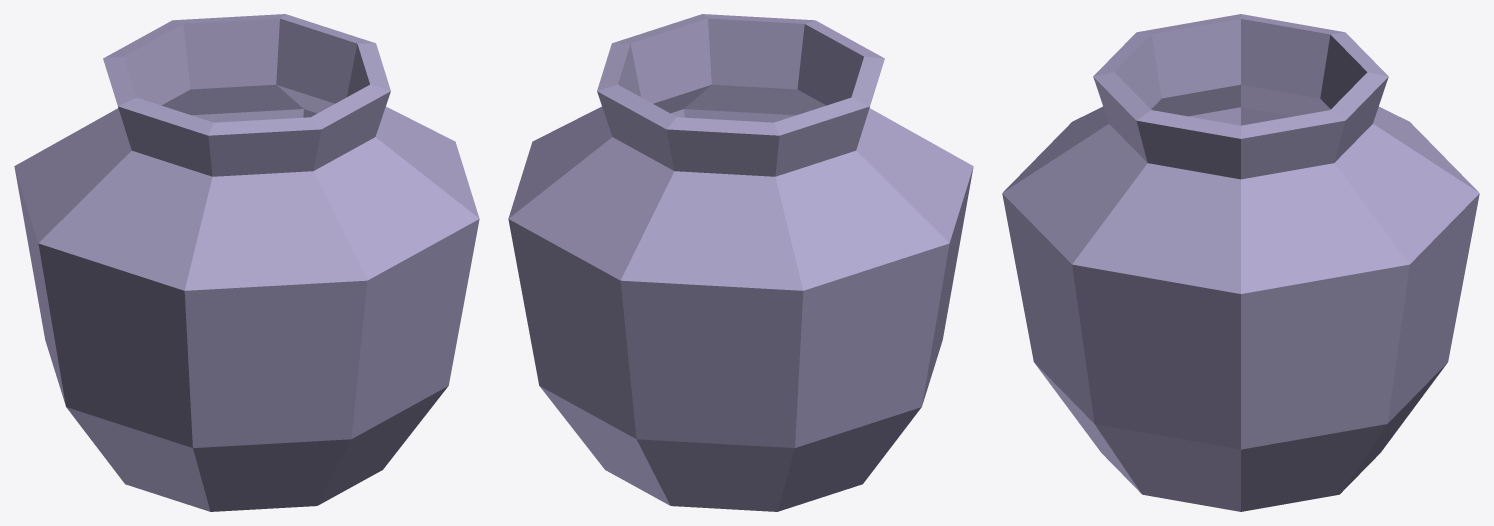
The model's file is pot_Decoration_02.fbx.
3 renders of one model, left to right at view 1: azimuth 30°, elevation 25°; view 2: azimuth 150°, elevation 25°; view 3: azimuth 270°, elevation 25°, orthographic.
Parts seen in each view (by area): view 1: Pot_02; view 2: Pot_02; view 3: Pot_02.
Boxes of the visible parts, <box> form: Pot_02: <box>14,14,479,511</box>; Pot_02: <box>508,14,973,511</box>; Pot_02: <box>1002,14,1479,511</box>.
Bounding box in the file's own units: 43.22 × 38.01 × 43.22.
